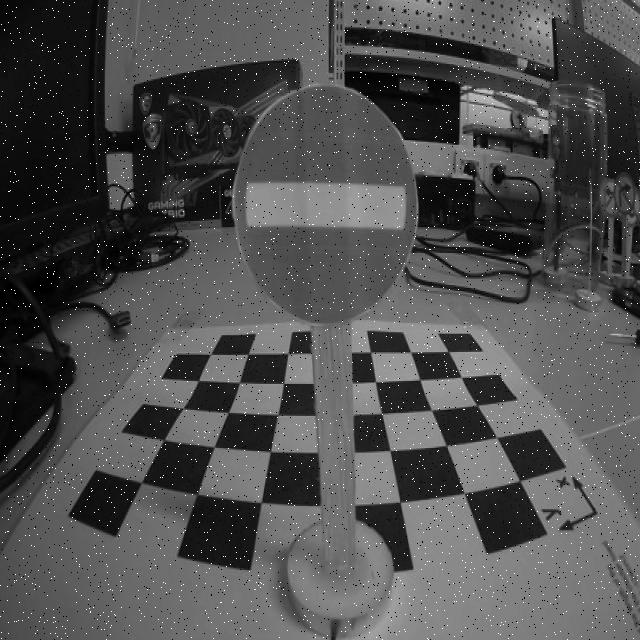Dilarang Masuk: (230, 84, 415, 326)
